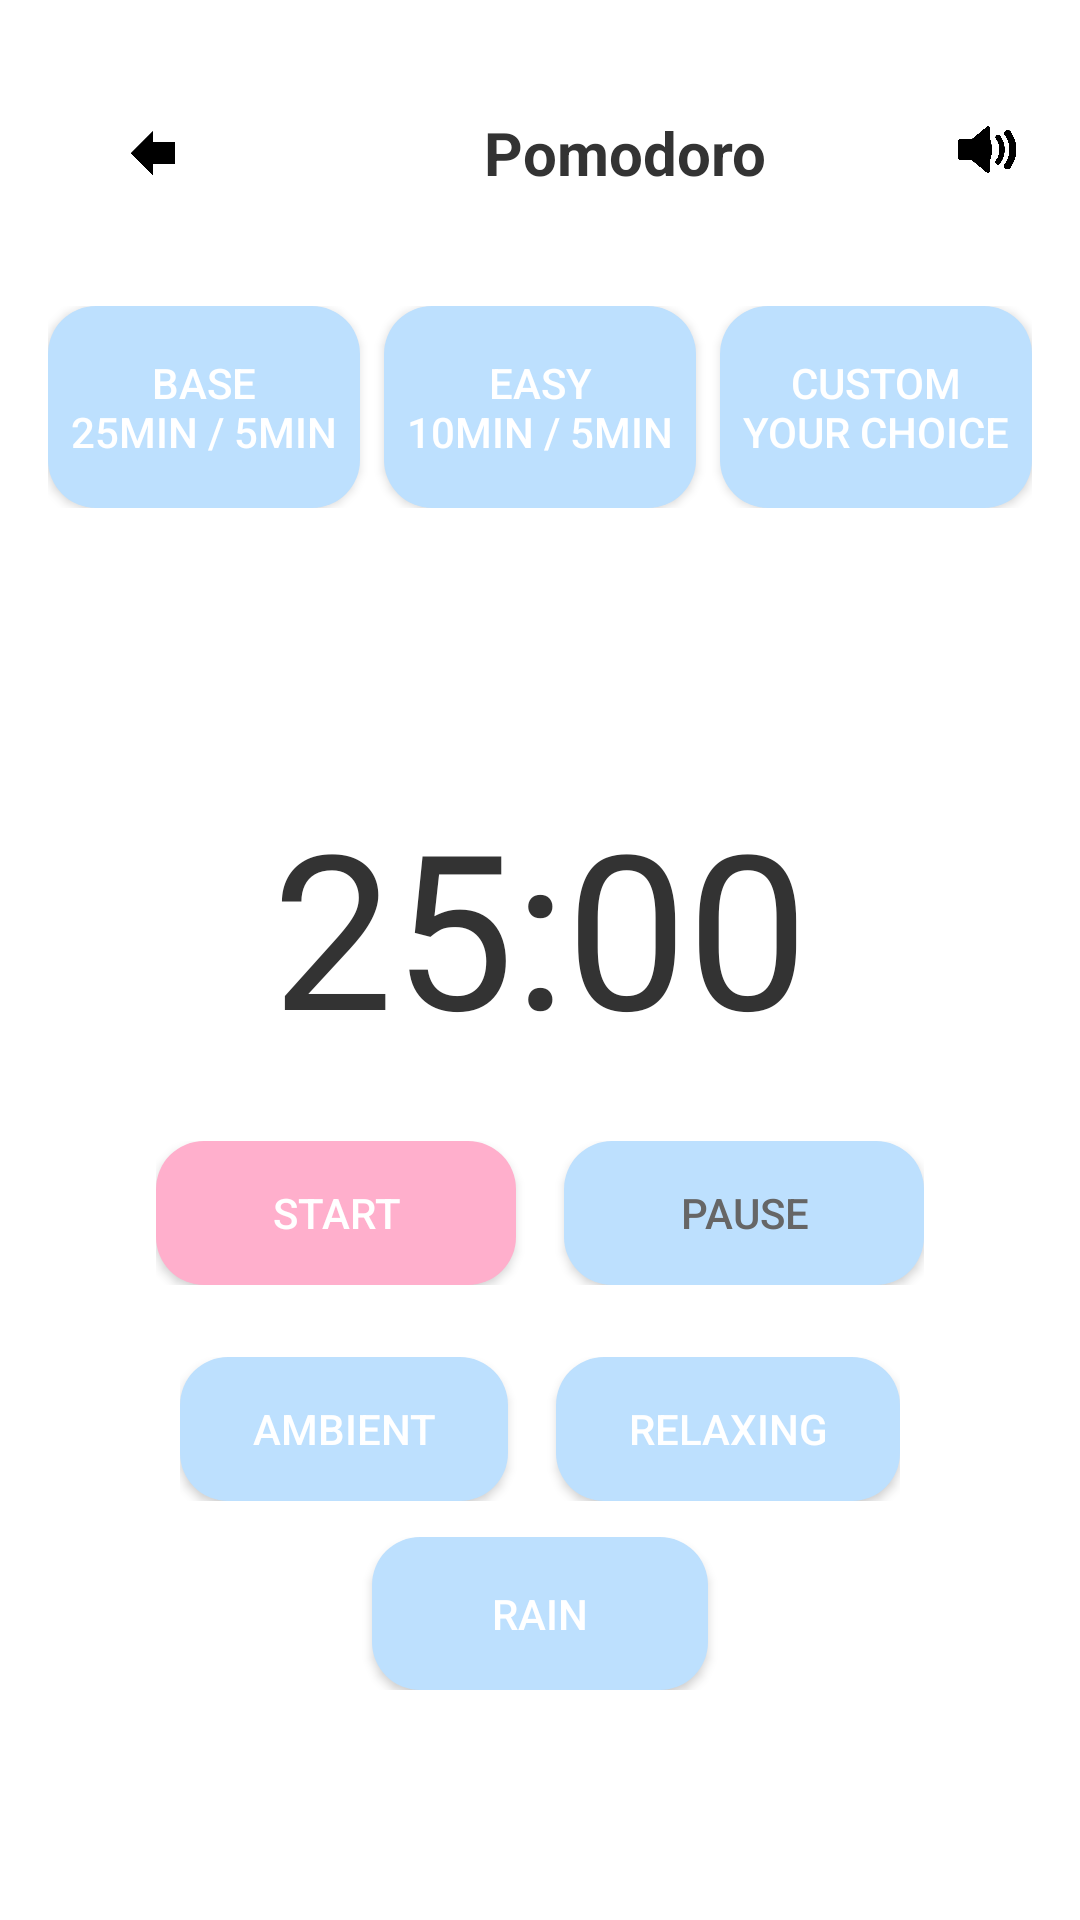

Icons on this 1080w x 1920h Android screen, each with the point to tap as point (x, y):
Back: point (153, 153)
